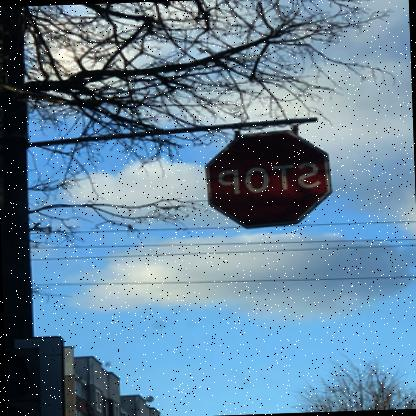stop: (206, 127, 336, 230)
trafficlight: (6, 345, 47, 415)
